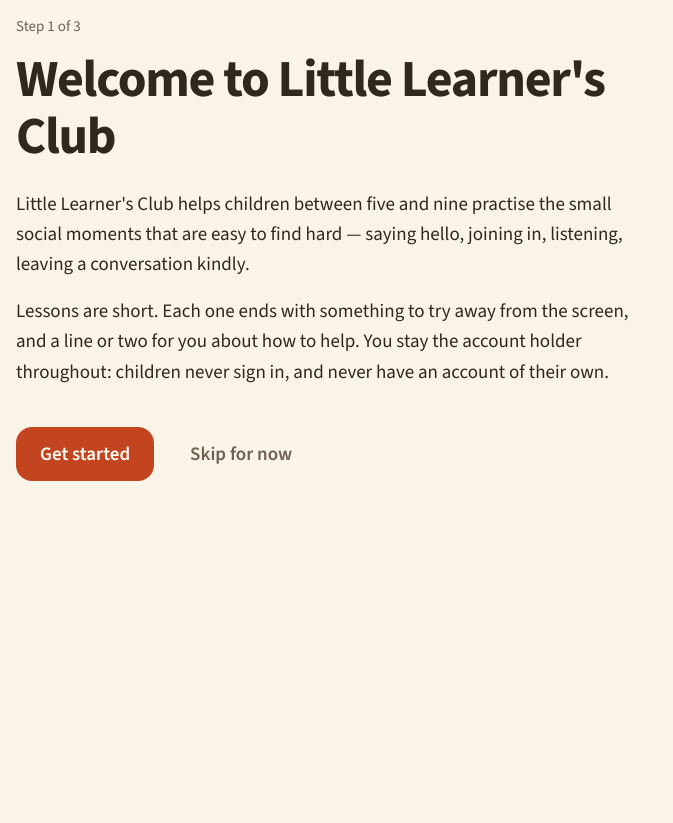
Test case: the steps › moves forward and back through three steps
Expected: the text "Step 1 of 3" is shown, [16,16,81,36]
Click the button "Get started" at point(85, 454), box [16,427,154,481]
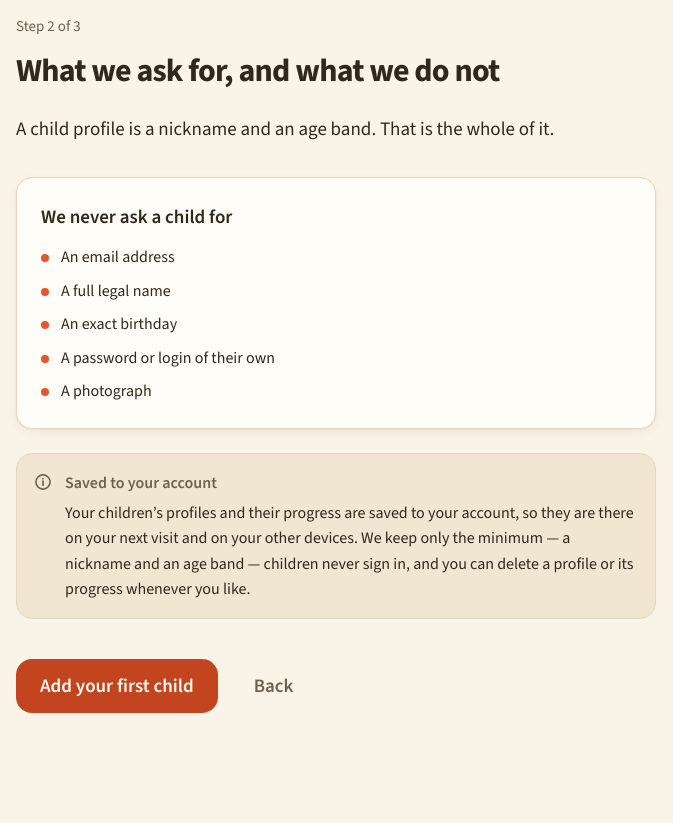
Now the text "Step 2 of 3" is shown, box [16,16,81,36]
Click the button "Add your first child" at point(117, 686), box [16,659,218,713]
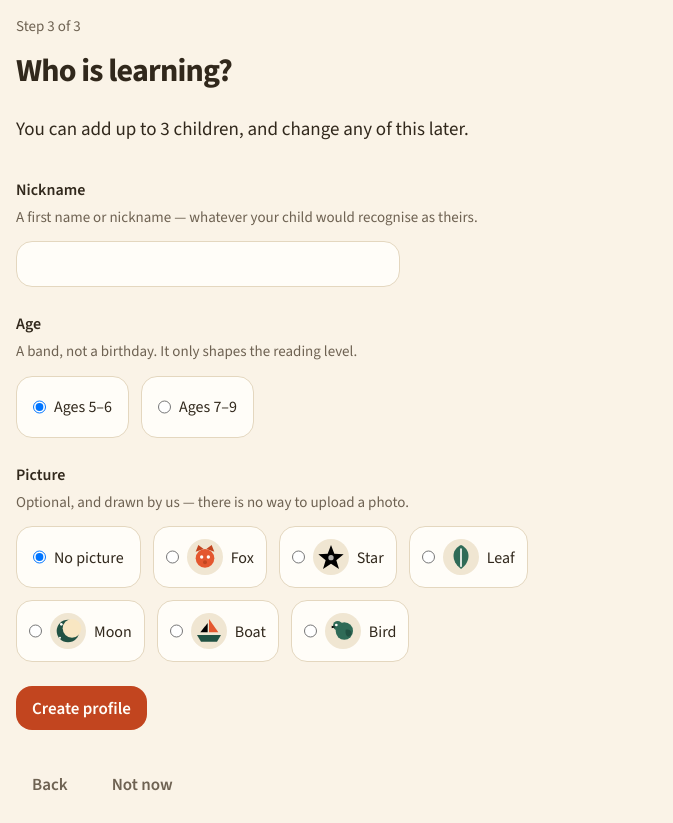
Now the text "Step 3 of 3" is shown, box [16,16,81,36]
Click the button "Back" at point(50, 784), box [16,762,84,806]
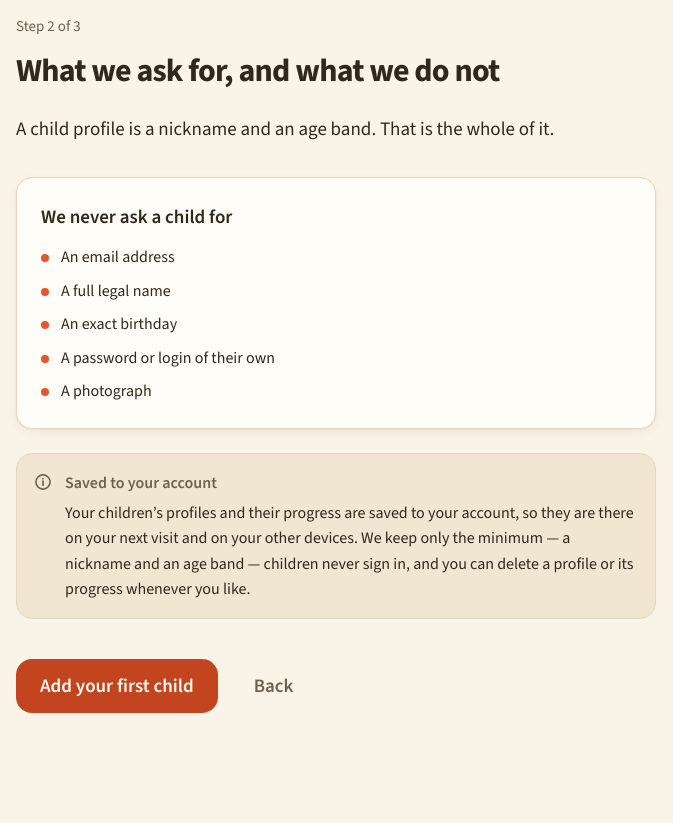
Now the text "Step 2 of 3" is shown, box [16,16,81,36]
